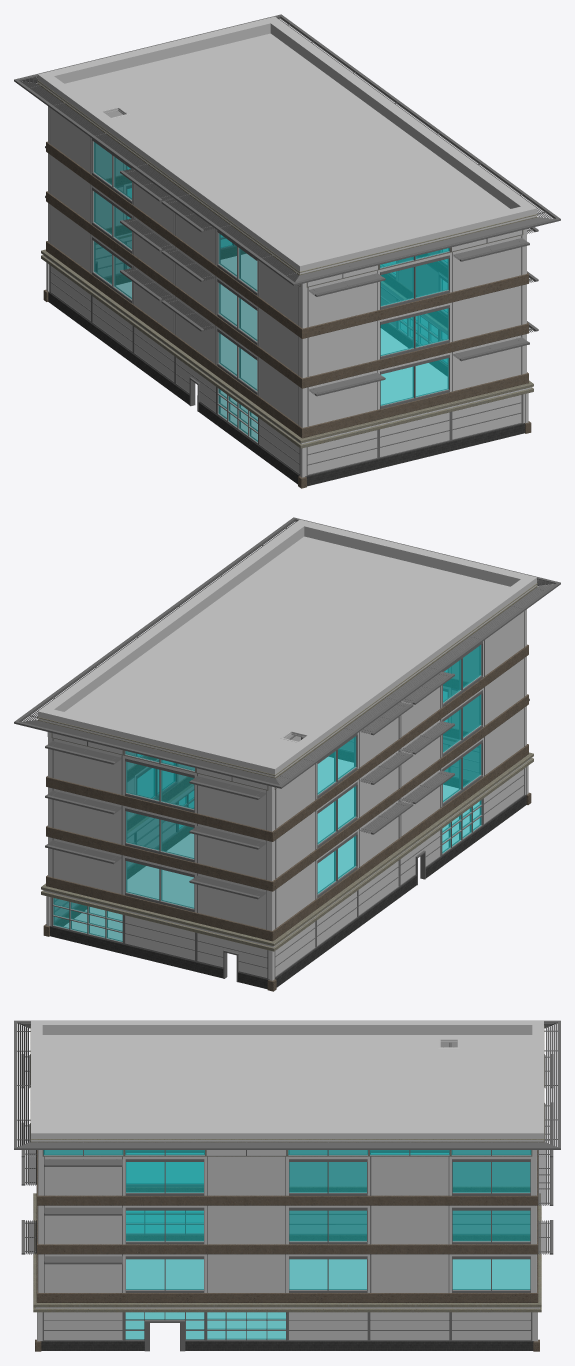
File: Building02.fbx
The picture shows the model from 3 angles, top to bottom: view 1: azimuth 30°, elevation 25°; view 2: azimuth 150°, elevation 25°; view 3: azimuth 270°, elevation 25°; orthographic projection. The views are drawn at different scales.
Visible parts, largest first — view 1: Building02; view 2: Building02; view 3: Building02.
Boxes of the visible parts, left/top/right/bottom form: Building02: left=14, top=14, right=560, bottom=488; Building02: left=14, top=517, right=560, bottom=991; Building02: left=14, top=1020, right=560, bottom=1351.
Bounding box in the file's own units: 2283 × 1834 × 4132.
